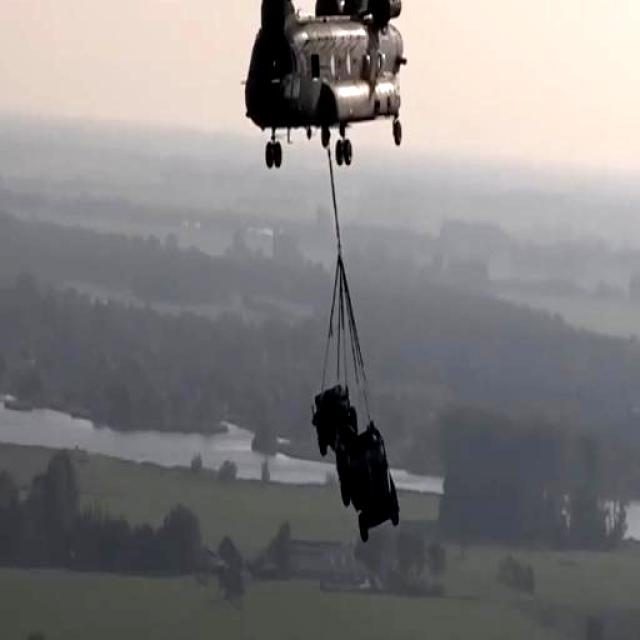drone: (102, 0, 538, 179)
